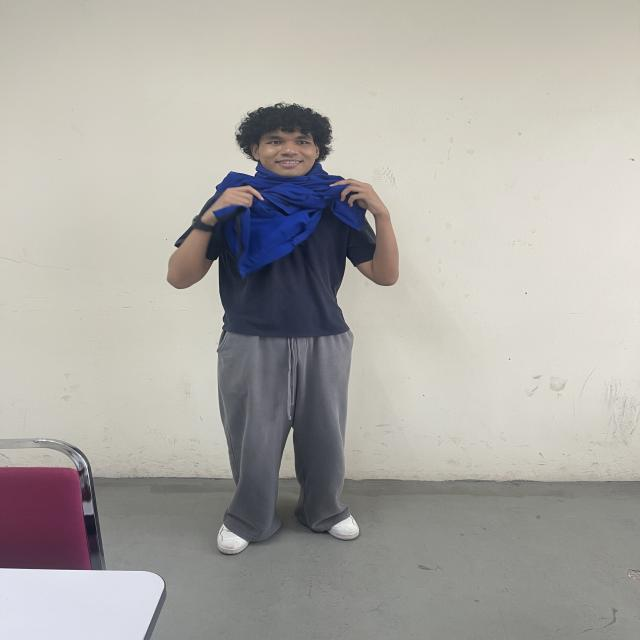person_without_labcoat: (168, 105, 398, 554)
